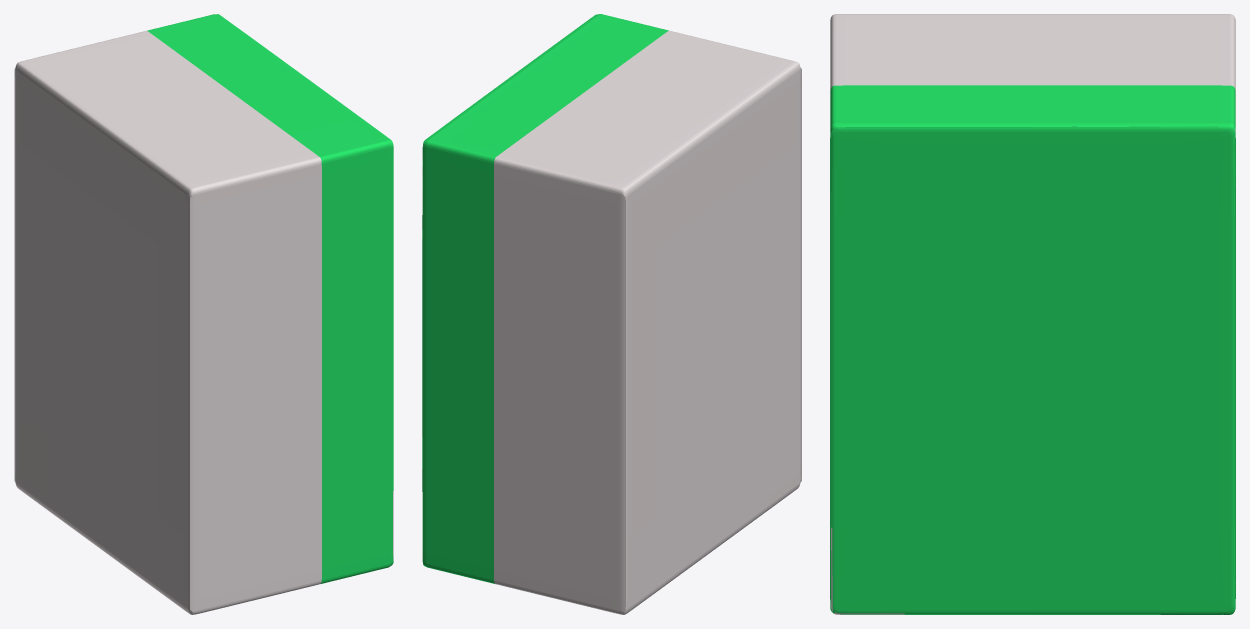
3 views of the same model, side by side, from view 1: azimuth 30°, elevation 25°; view 2: azimuth 150°, elevation 25°; view 3: azimuth 270°, elevation 25° (orthographic). The views are drawn at different scales.
Visible parts, largest first — view 1: Cube; view 2: Cube; view 3: Cube.
Boxes of the visible parts, bbox=[...] form: Cube: bbox=[14, 14, 393, 614]; Cube: bbox=[422, 14, 801, 614]; Cube: bbox=[830, 14, 1235, 614].
Size of the model in its own units: 400 by 800 by 600.
